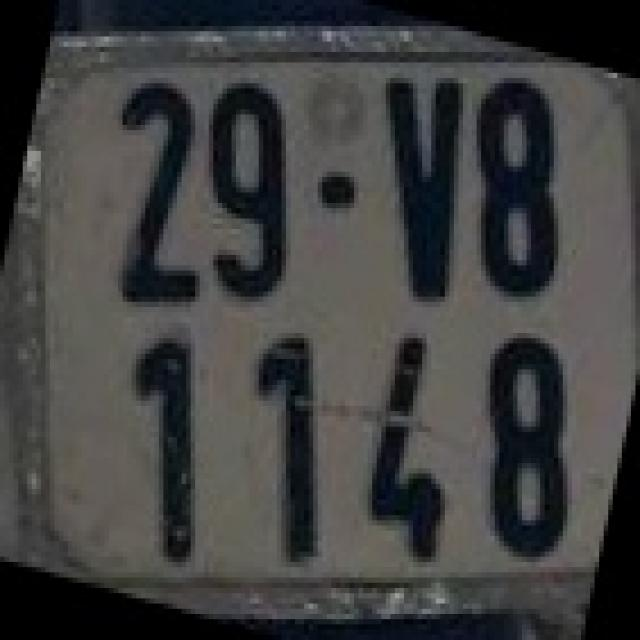1: (122, 328, 214, 572), (245, 328, 336, 572)
2: (109, 73, 204, 307)
4: (363, 328, 454, 567)
8: (481, 328, 577, 562), (472, 68, 567, 296)
9: (204, 78, 295, 302)
V: (377, 68, 468, 302)
